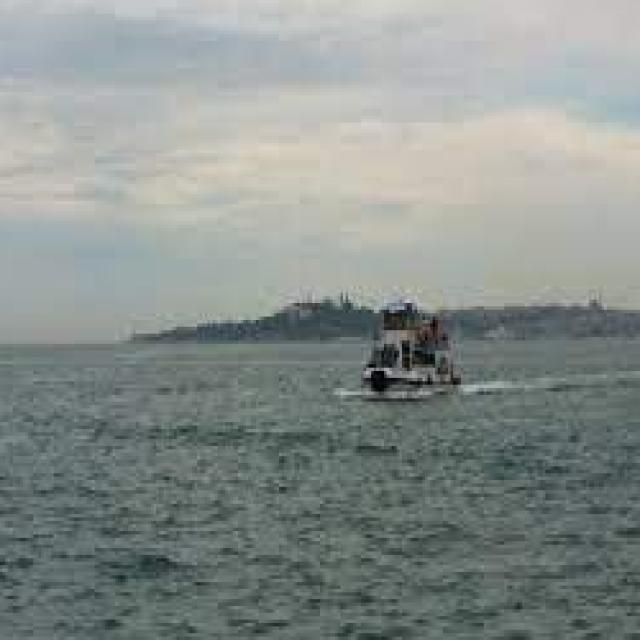fishing boat: (346, 303, 471, 385)
